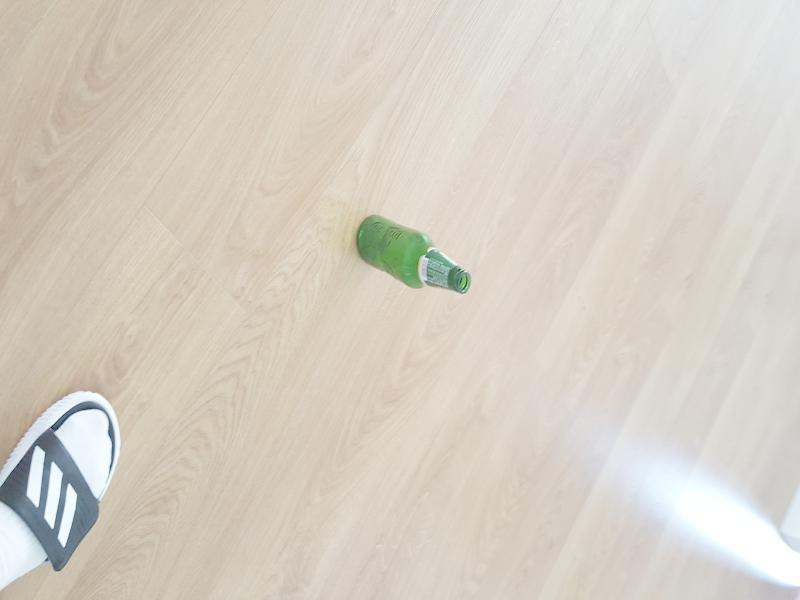Beer: (356, 217, 468, 293)
